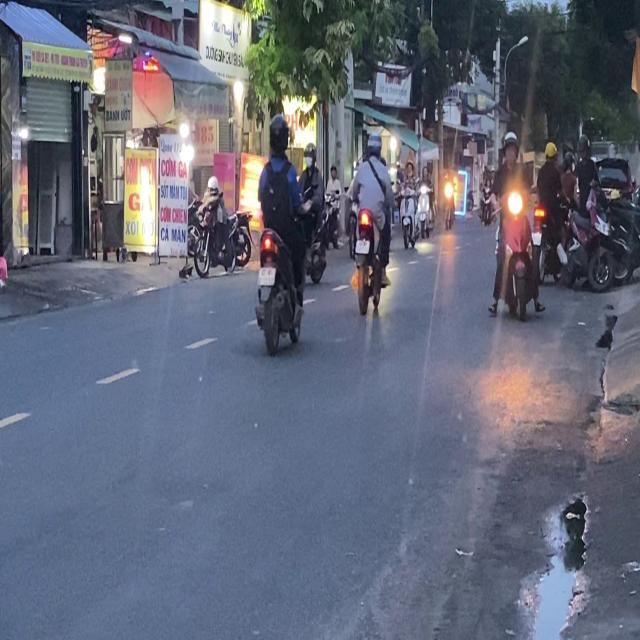helmet: (266, 112, 289, 156), (502, 130, 519, 163), (366, 130, 382, 156)
licenseplate: (252, 112, 306, 354), (489, 129, 541, 318), (349, 129, 393, 315)
nohelmet: (257, 267, 275, 285), (355, 239, 369, 252)
